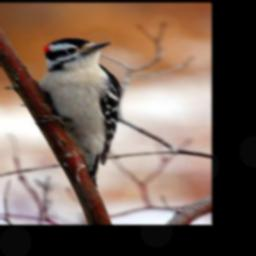Woodpecker: (33, 37, 120, 187)
